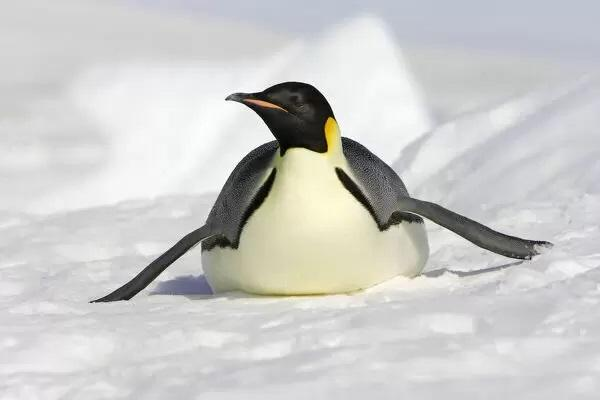emporer: (181, 72, 462, 304)
